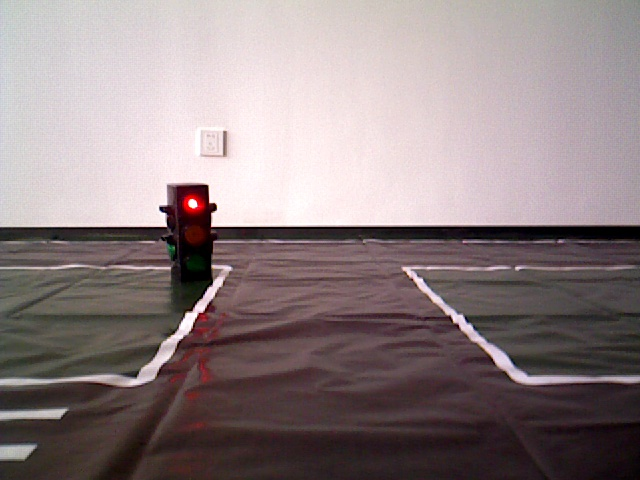red: (167, 189, 208, 281)
